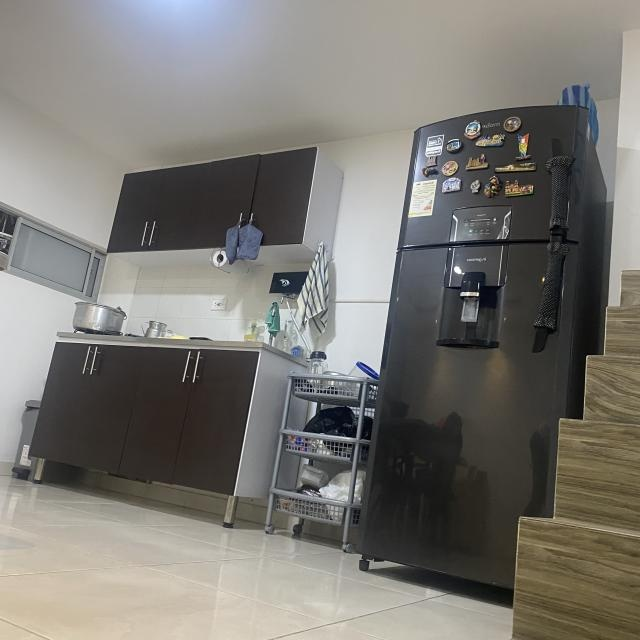obstacle: (337, 101, 578, 588), (2, 325, 273, 506), (252, 357, 385, 544)
stair: (490, 258, 639, 640)
